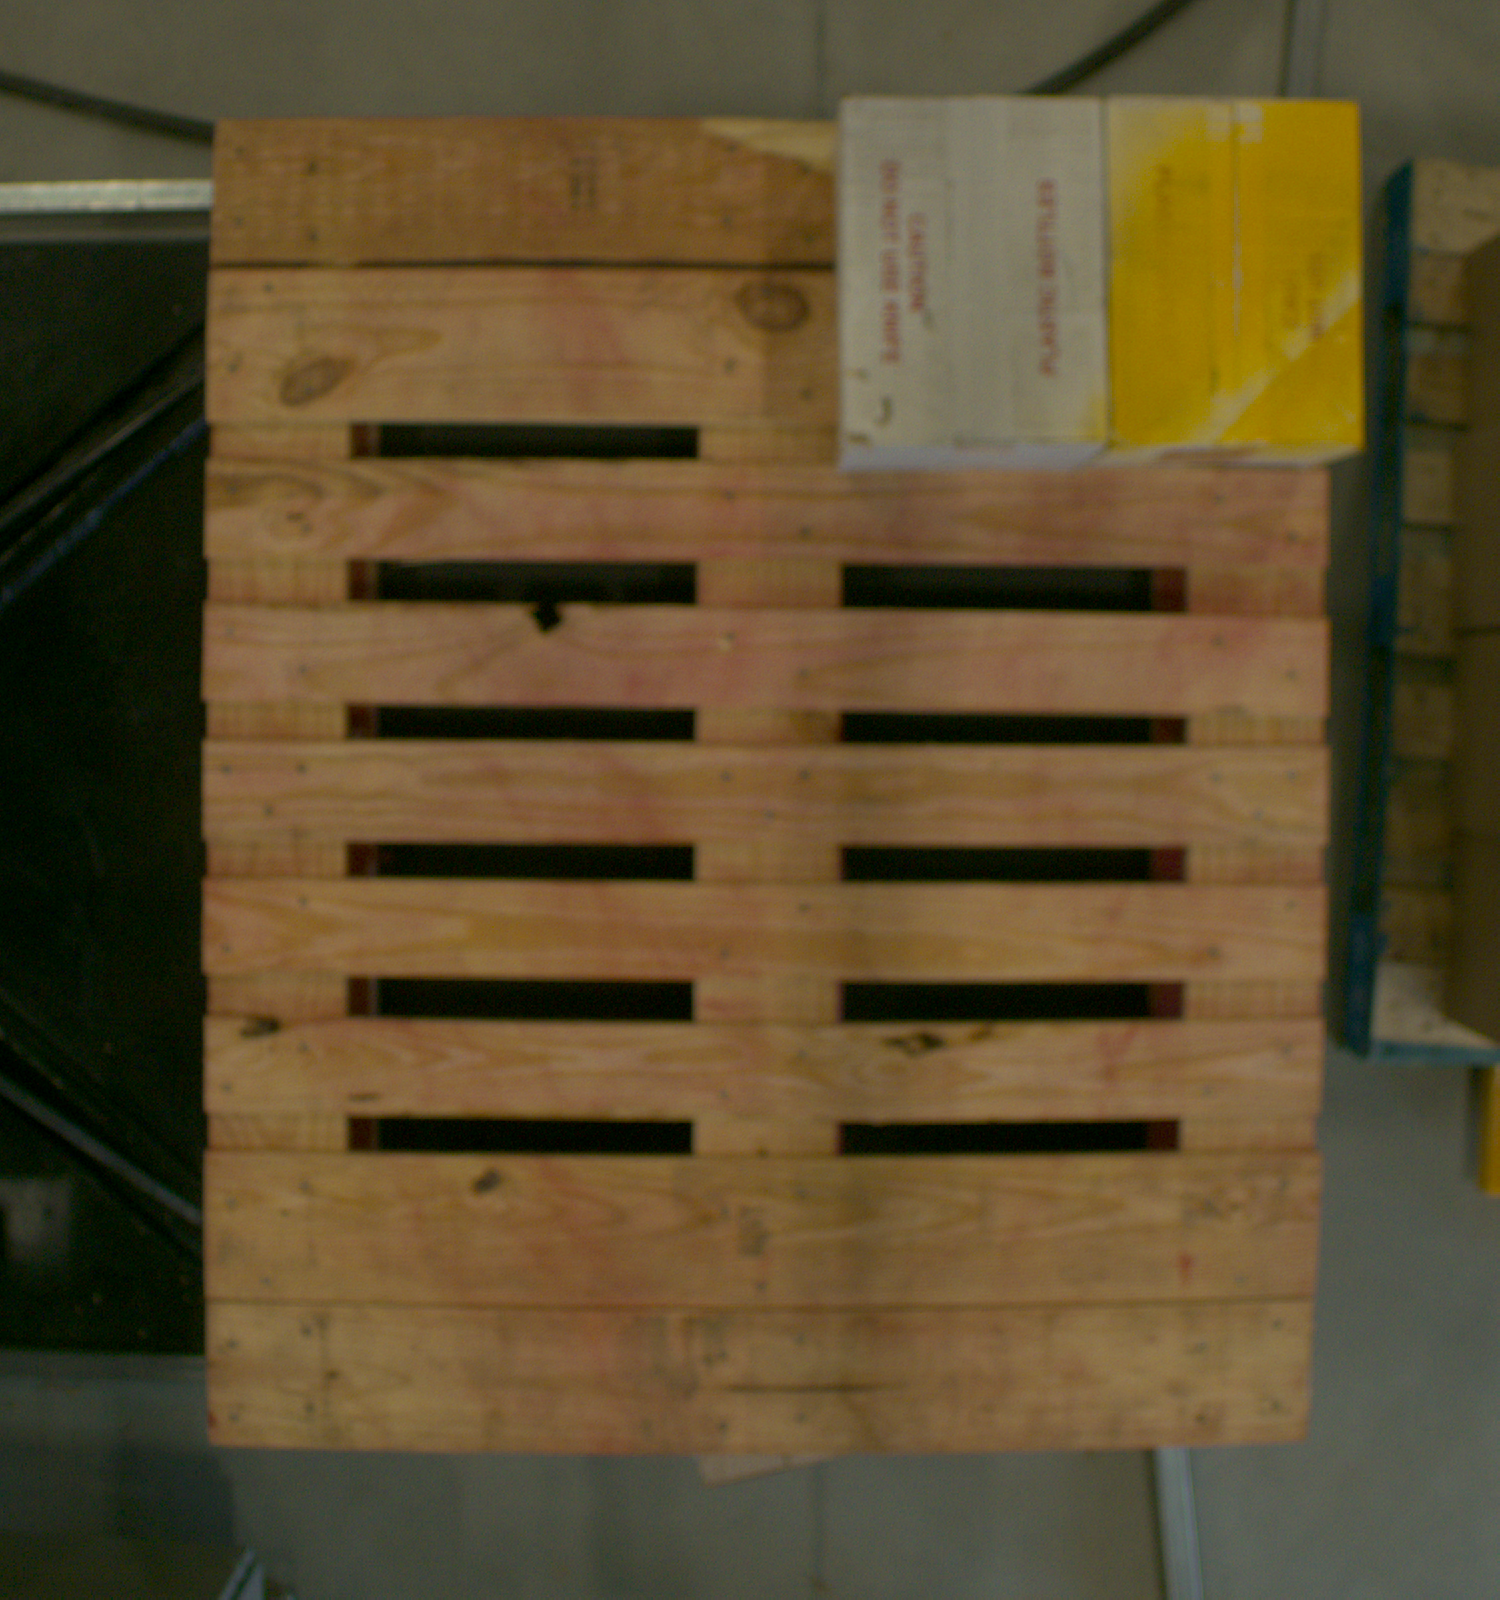box top: (849, 99, 1104, 450), (1111, 100, 1365, 448)
